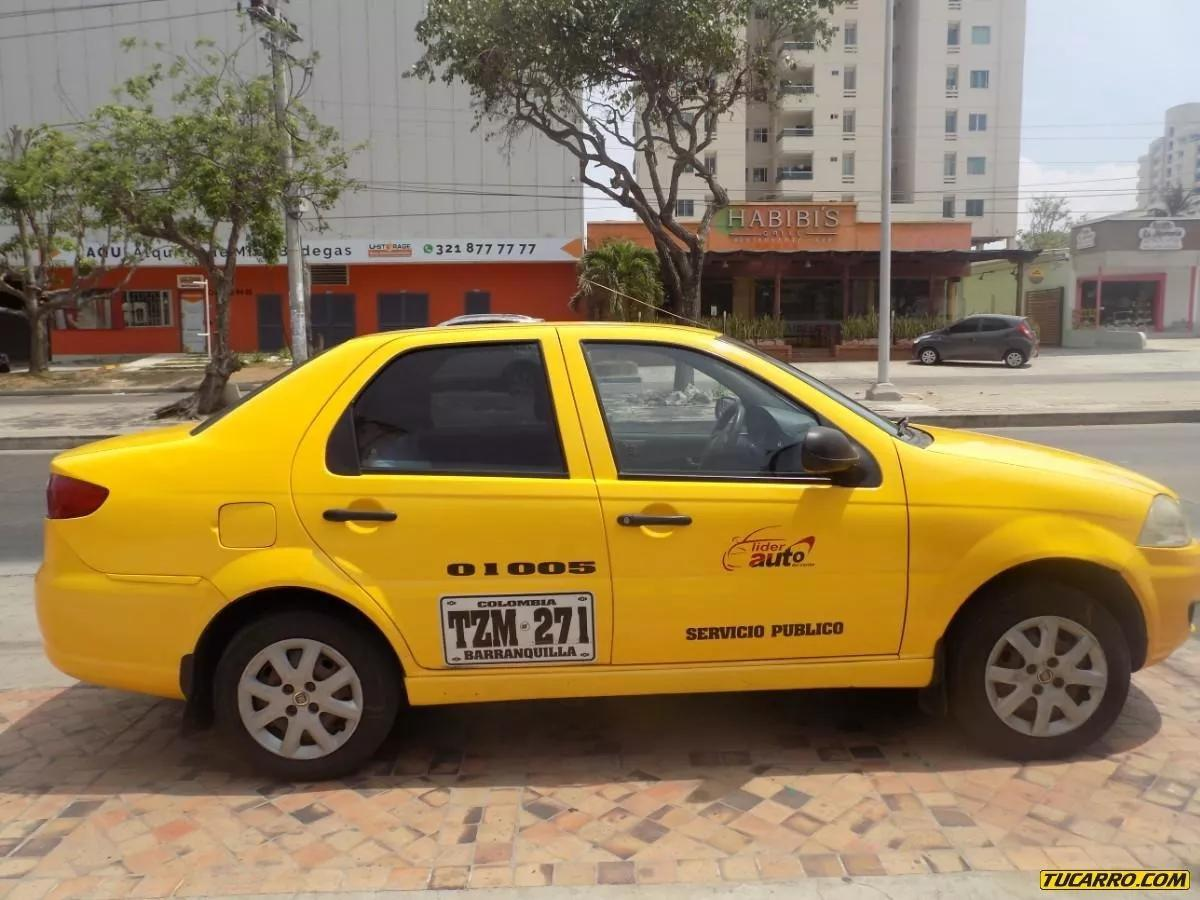taxi: (23, 279, 1200, 770)
